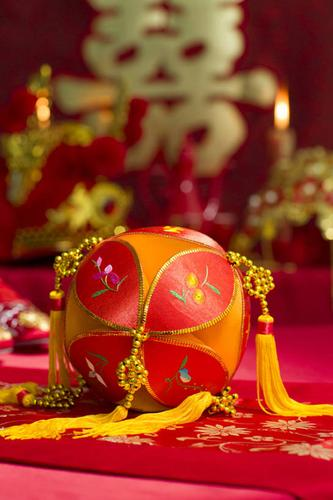xiuqiu: (60, 223, 247, 410)
